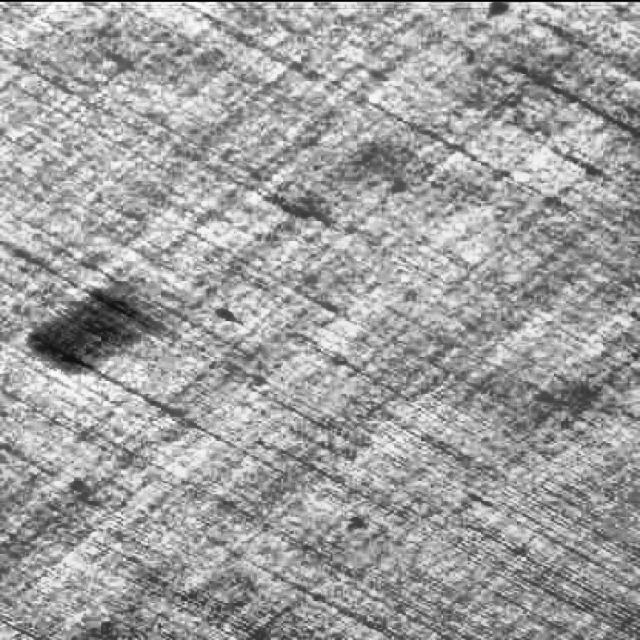oil_spot: (18, 251, 184, 388)
